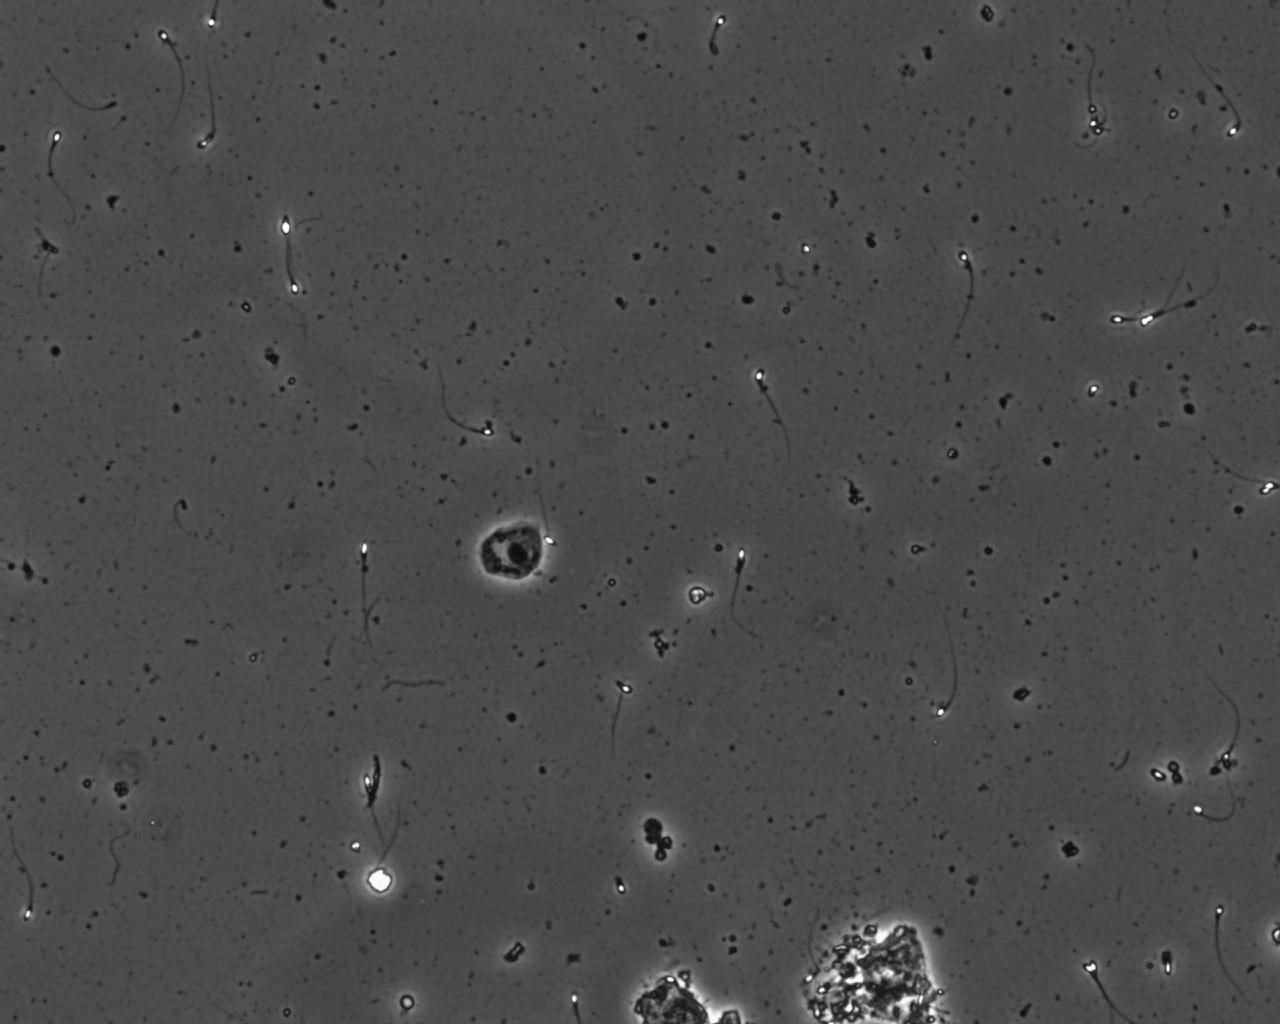cell: (529, 481, 581, 527), (1043, 829, 1083, 879), (526, 522, 566, 571), (484, 525, 525, 564), (507, 501, 542, 541), (362, 863, 397, 898), (651, 965, 683, 1001), (490, 483, 521, 516), (463, 550, 495, 579), (639, 814, 667, 848), (673, 990, 697, 1020), (684, 583, 709, 608)
